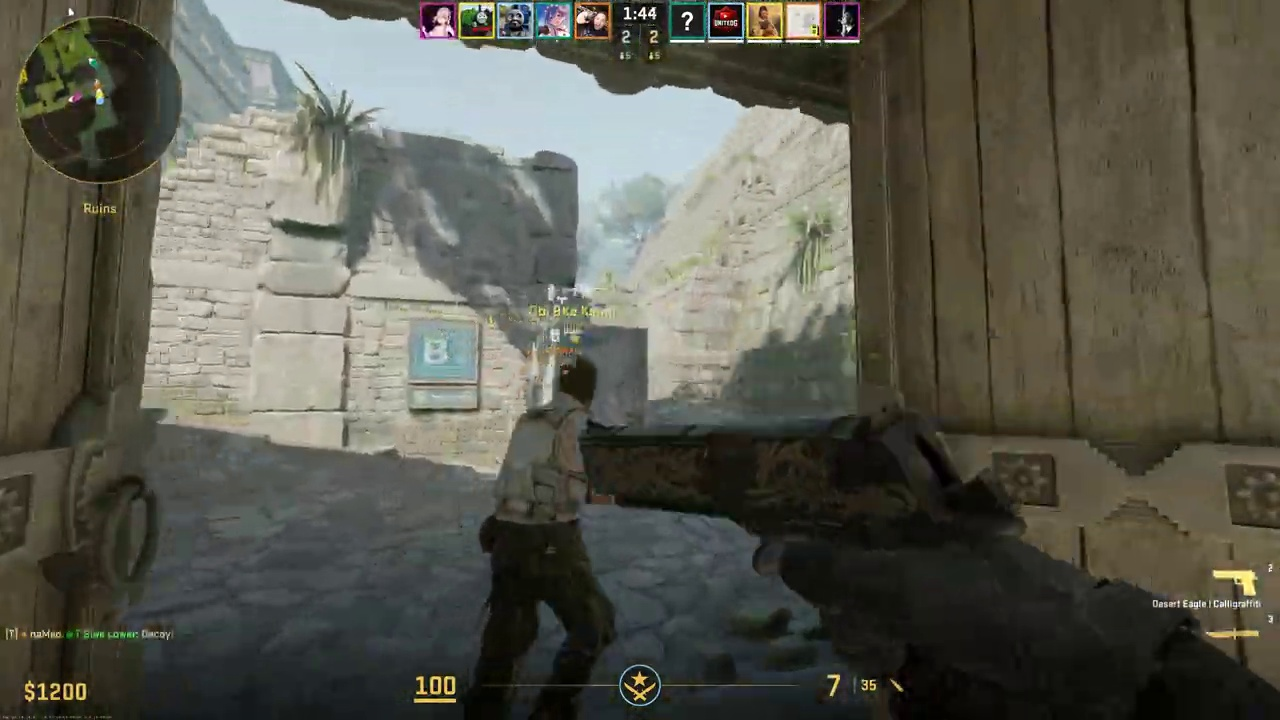Terrorist: (484, 357, 631, 719)
